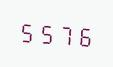five: (18, 17, 36, 45), (37, 18, 55, 46)
seven: (56, 20, 74, 48)
six: (75, 21, 93, 49)
